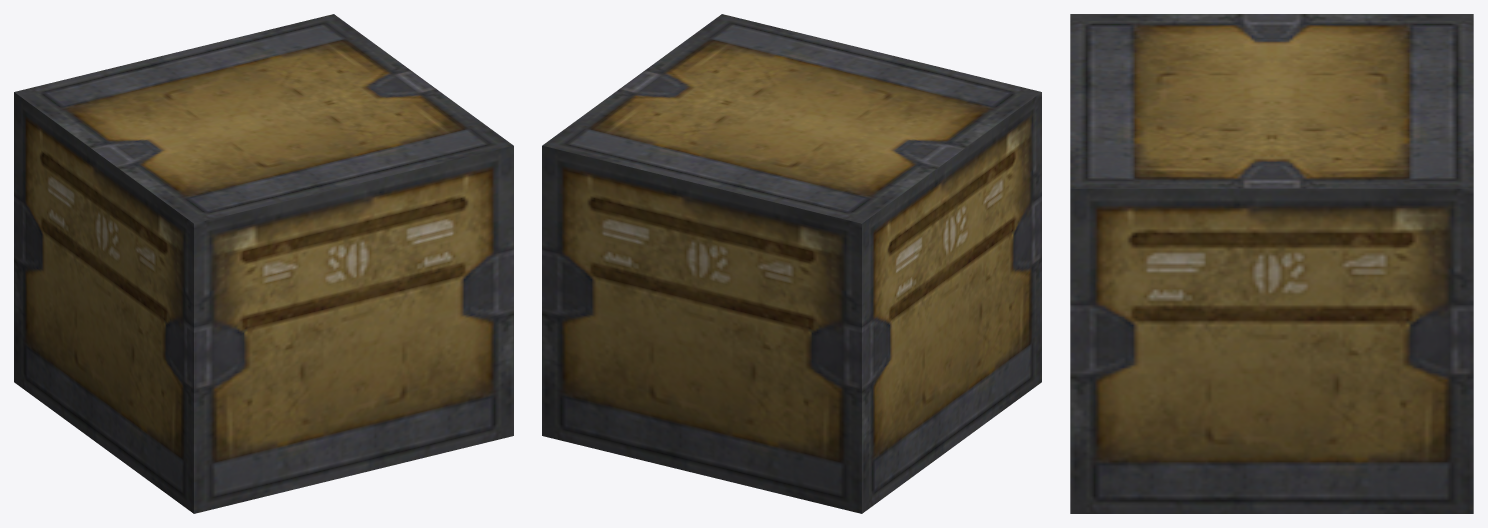
The model's file is yw_yiwangfeixu_xiangzi01.FBX.
3 renders of one model, left to right at view 1: azimuth 30°, elevation 25°; view 2: azimuth 150°, elevation 25°; view 3: azimuth 270°, elevation 25°, orthographic. The views are drawn at different scales.
Visible parts, largest first — view 1: yw_yiwangfeixu_xiangzi01; view 2: yw_yiwangfeixu_xiangzi01; view 3: yw_yiwangfeixu_xiangzi01.
Boxes of the visible parts, x1,y1,x2,y2 form: yw_yiwangfeixu_xiangzi01: (14,14,513,513); yw_yiwangfeixu_xiangzi01: (542,14,1041,513); yw_yiwangfeixu_xiangzi01: (1070,14,1473,513).
Bounding box in the file's own units: 131 × 114 × 128.
